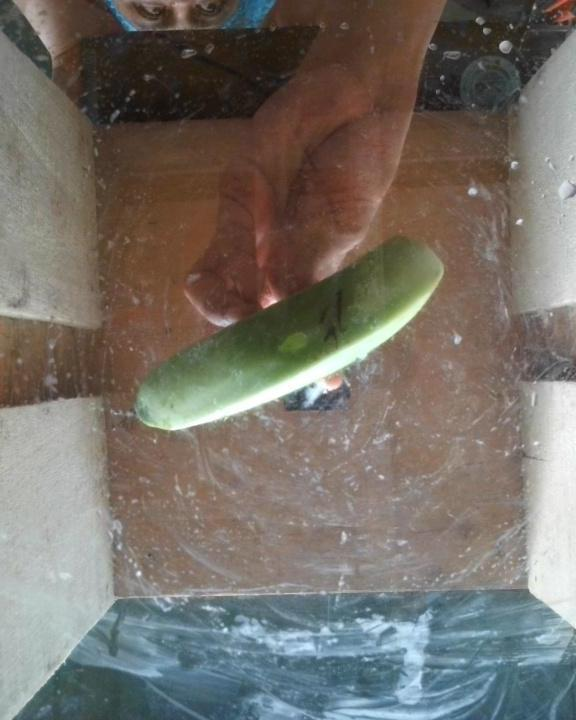CLASS B: (119, 227, 451, 438)
Class A: (313, 286, 357, 350)
